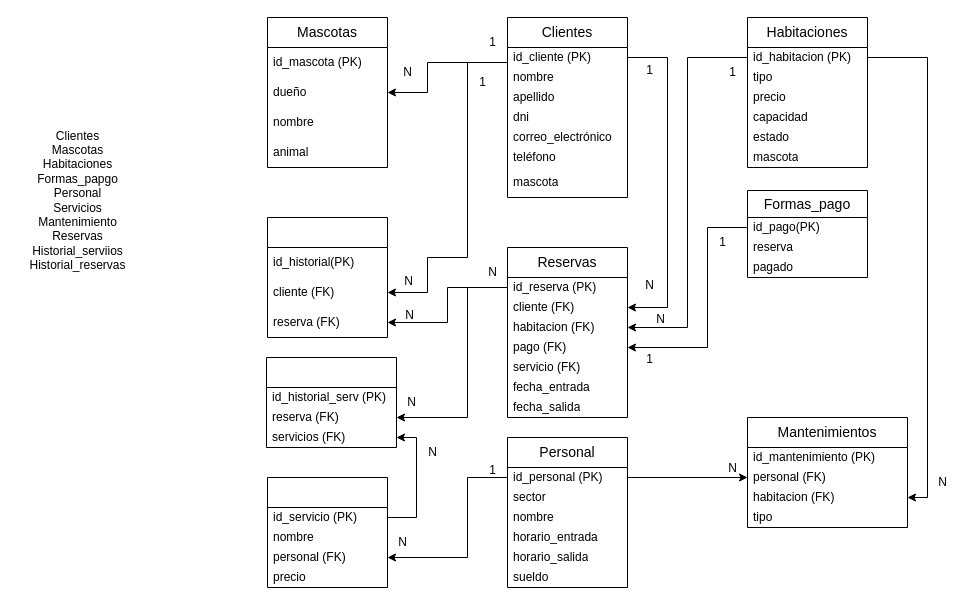
This 974x605 diagram has some shape labels left out. Each missing label, with the box of its shape:
Historial_reservas: (266, 216, 388, 338)
Historial_servicios: (266, 356, 396, 448)
Servicios: (266, 476, 388, 588)
